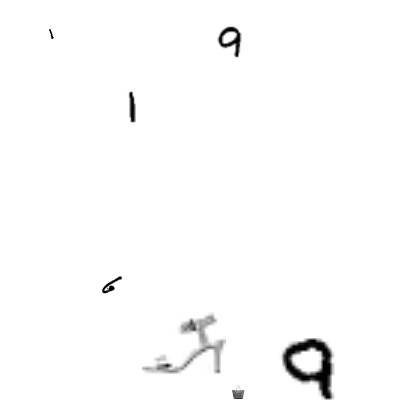1: (110, 86, 152, 128), (44, 27, 58, 41)
6: (96, 271, 124, 299)
9: (268, 321, 352, 405), (210, 18, 252, 60)
Bag: (231, 385, 245, 399)
Sandal: (142, 301, 226, 385)
